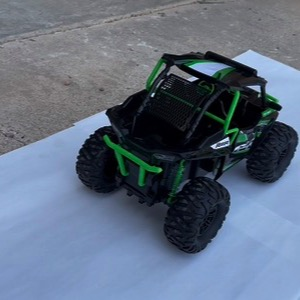polaris: (77, 50, 300, 254)
